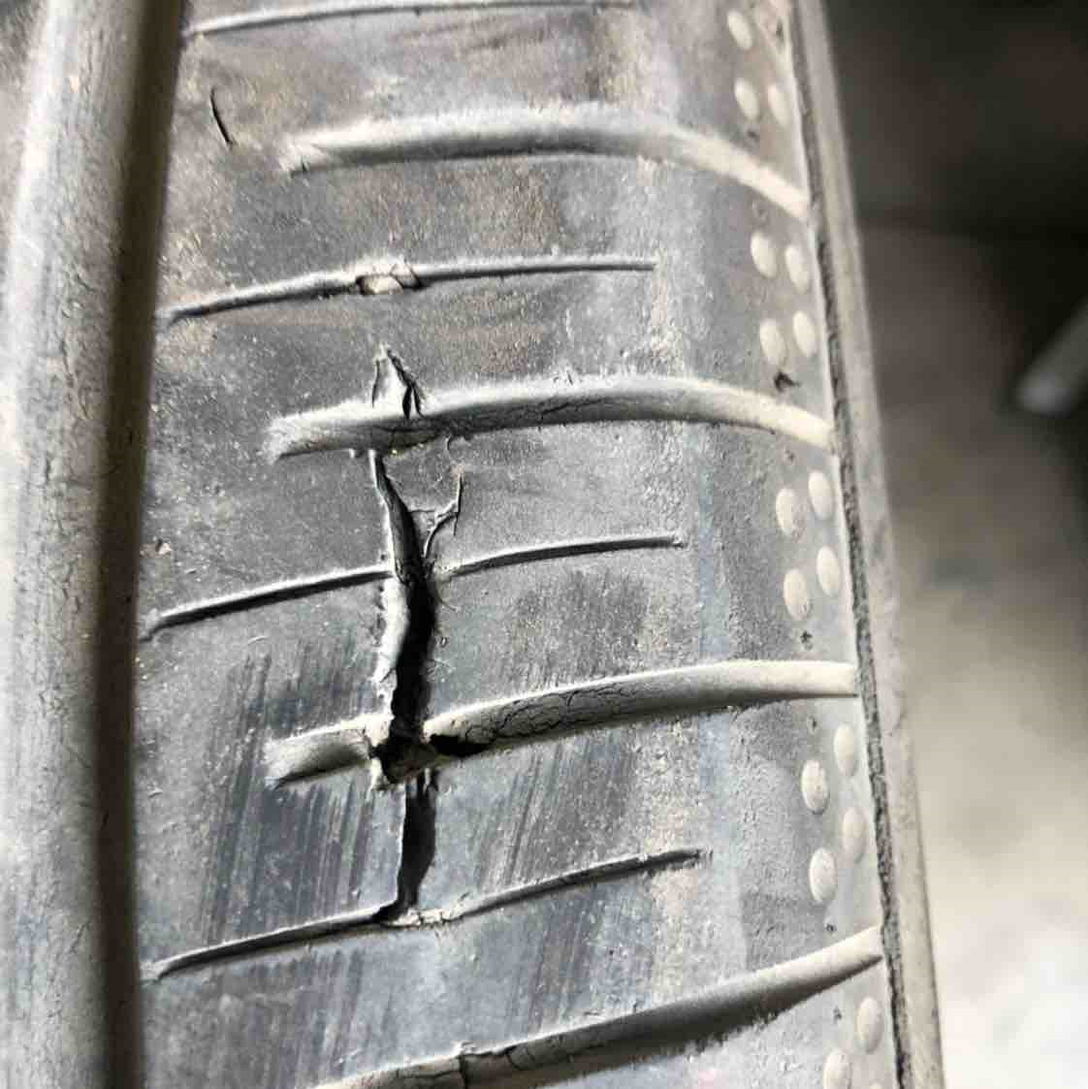tr: (249, 330, 513, 935)
